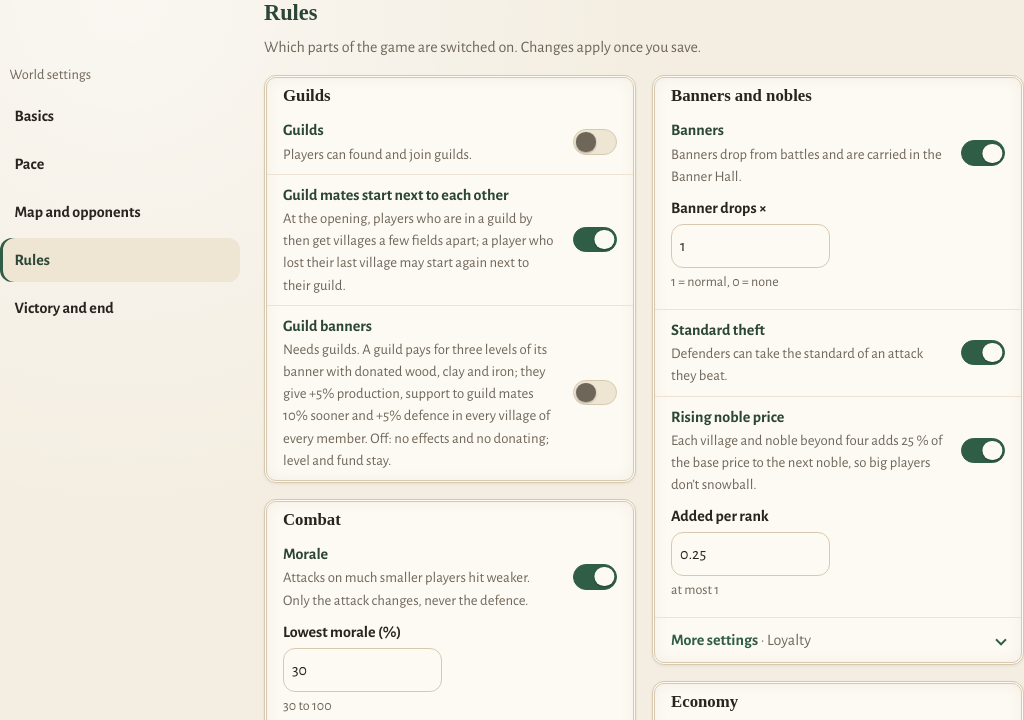
WorldTab: one save bar for every section (1.6) › shows a switch’s numbers only while it is on
Check: the number field labelled "Lowest morale (%)" is shown, box [283,648,442,692]
Step 1. Click the switch labelled "Morale" → (595, 577), box [573,564,617,590]
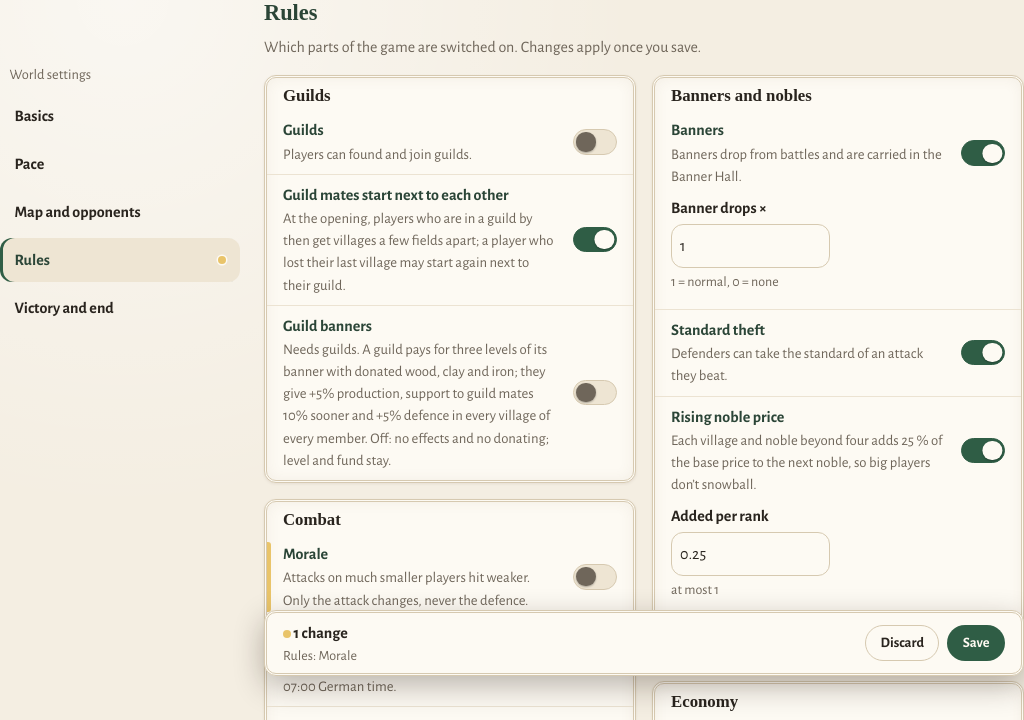
Check: the label labelled "Lowest morale (%)" is gone
